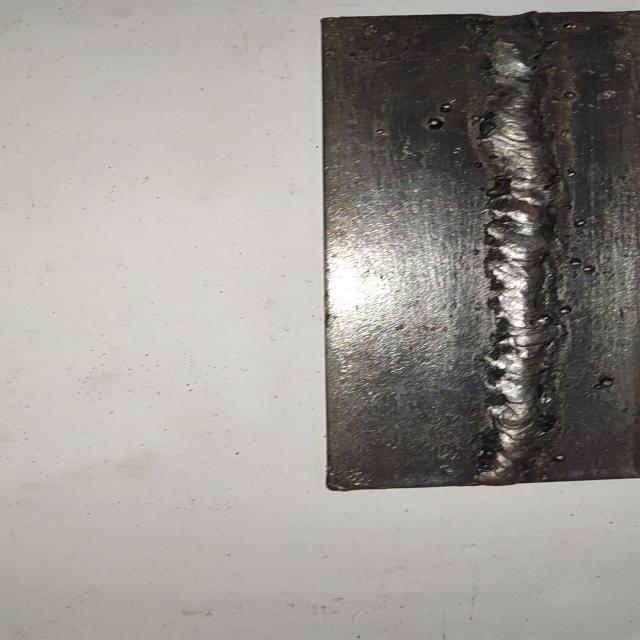Bad Weld: (474, 16, 568, 480)
Defect: (451, 15, 576, 64), (424, 96, 492, 145), (586, 372, 624, 398)
